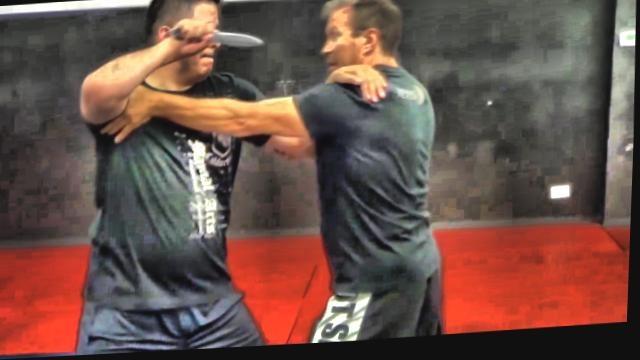knife: (167, 11, 270, 58)
